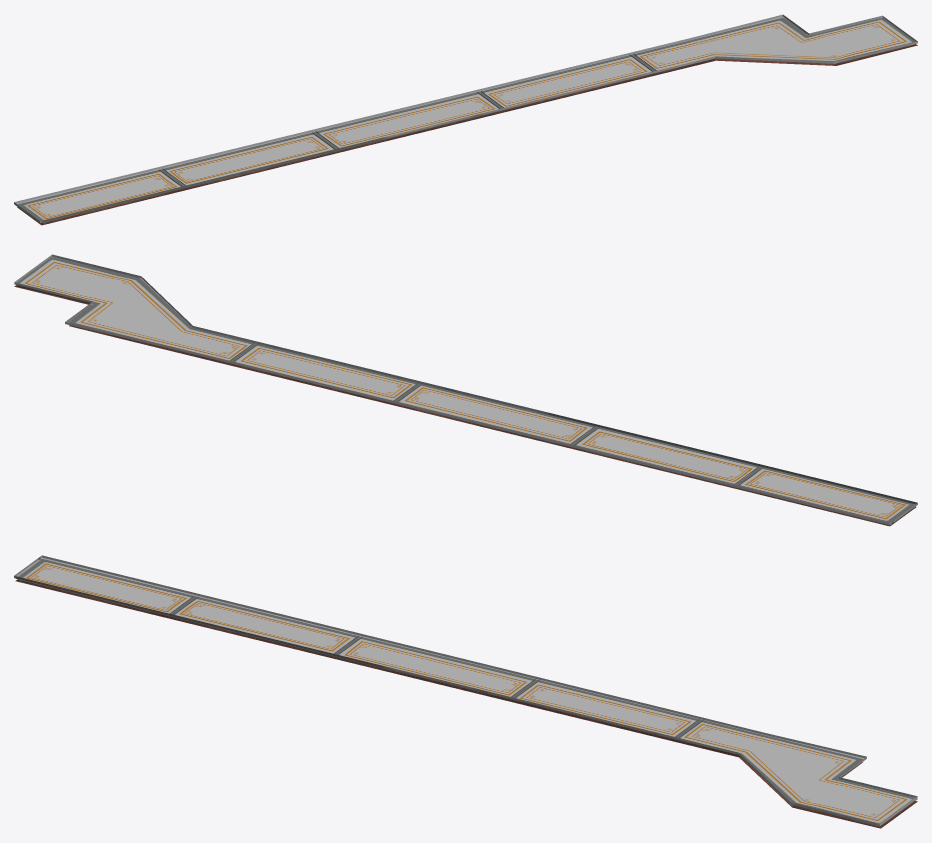
File: SM_Long_Roof.fbx
3 renders of one model, top to bottom at view 1: azimuth 30°, elevation 25°; view 2: azimuth 150°, elevation 25°; view 3: azimuth 330°, elevation 25°, orthographic. The views are drawn at different scales.
Visible parts, largest first — view 1: SM_Long_Roof; view 2: SM_Long_Roof; view 3: SM_Long_Roof.
Part boxes in pixels (<box>): SM_Long_Roof: <box>14,14,917,225</box>; SM_Long_Roof: <box>14,254,917,526</box>; SM_Long_Roof: <box>14,555,917,828</box>.
Size of the model in its own units: 1794 by 227 by 9.15.
1 material, 1 textured.
